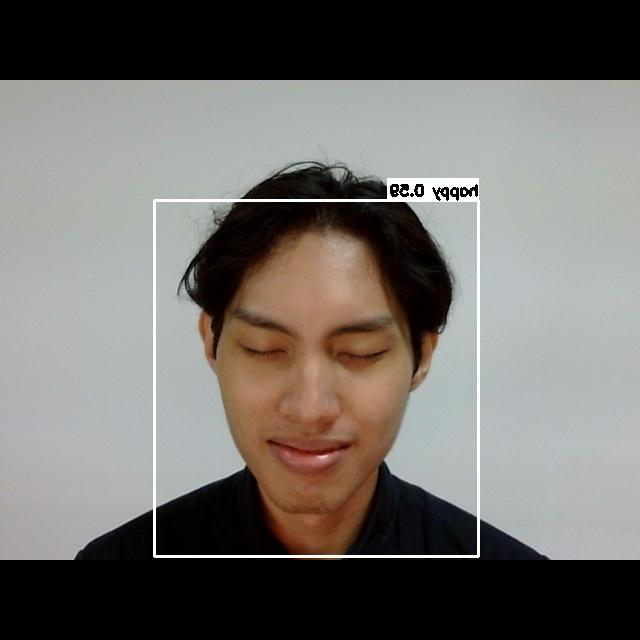Sad: (220, 292, 416, 482)
